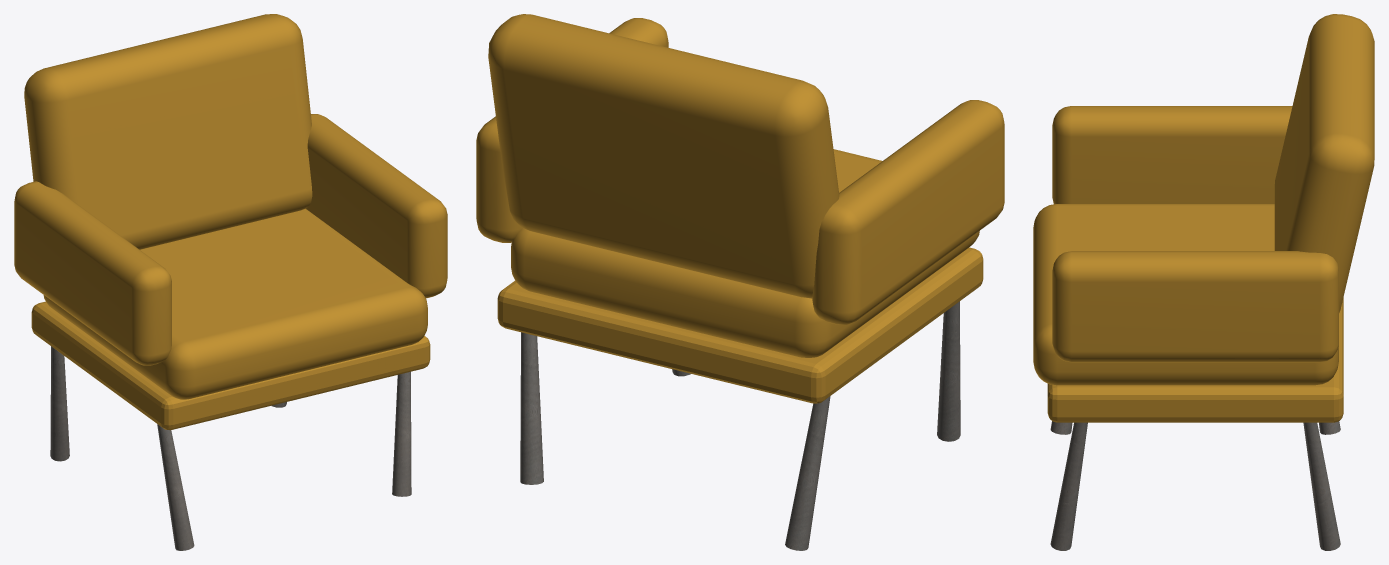
Rendered from hotel-accent-chair-mustard.glb.
3 views of the same model, side by side, from view 1: azimuth 30°, elevation 25°; view 2: azimuth 150°, elevation 25°; view 3: azimuth 270°, elevation 25° (orthographic). The views are drawn at different scales.
Parts seen in each view (by area): view 1: back, seat, arm.001, arm, apron, leg.002, leg, leg.001; view 2: back, arm.001, apron, seat, arm, leg.003, leg.001, leg; view 3: arm, arm.001, seat, back, apron, leg.002, leg.003.
Part boxes in pixels (x1=…): back: x1=24, y1=14, x2=312, y2=249; seat: x1=43, y1=209, x2=427, y2=399; arm.001: x1=14, y1=181, x2=171, y2=365; arm: x1=306, y1=114, x2=447, y2=298; apron: x1=31, y1=301, x2=430, y2=430; leg.002: x1=392, y1=371, x2=411, y2=496; leg: x1=157, y1=424, x2=194, y2=550; leg.001: x1=50, y1=346, x2=69, y2=461; back: x1=488, y1=14, x2=839, y2=298; arm.001: x1=812, y1=100, x2=1004, y2=324; apron: x1=497, y1=247, x2=983, y2=403; seat: x1=511, y1=149, x2=979, y2=357; arm: x1=476, y1=18, x2=668, y2=242; leg.003: x1=520, y1=332, x2=543, y2=484; leg.001: x1=785, y1=396, x2=830, y2=550; leg: x1=937, y1=301, x2=960, y2=441; arm: x1=1052, y1=251, x2=1338, y2=362; arm.001: x1=1052, y1=106, x2=1292, y2=204; seat: x1=1033, y1=204, x2=1338, y2=385; back: x1=1274, y1=14, x2=1374, y2=312; apron: x1=1047, y1=297, x2=1343, y2=422; leg.002: x1=1050, y1=422, x2=1087, y2=550; leg.003: x1=1303, y1=422, x2=1340, y2=550.
Size of the model in its own units: 0.82 by 0.9594 by 0.7148.
2 materials, 1 textured.
